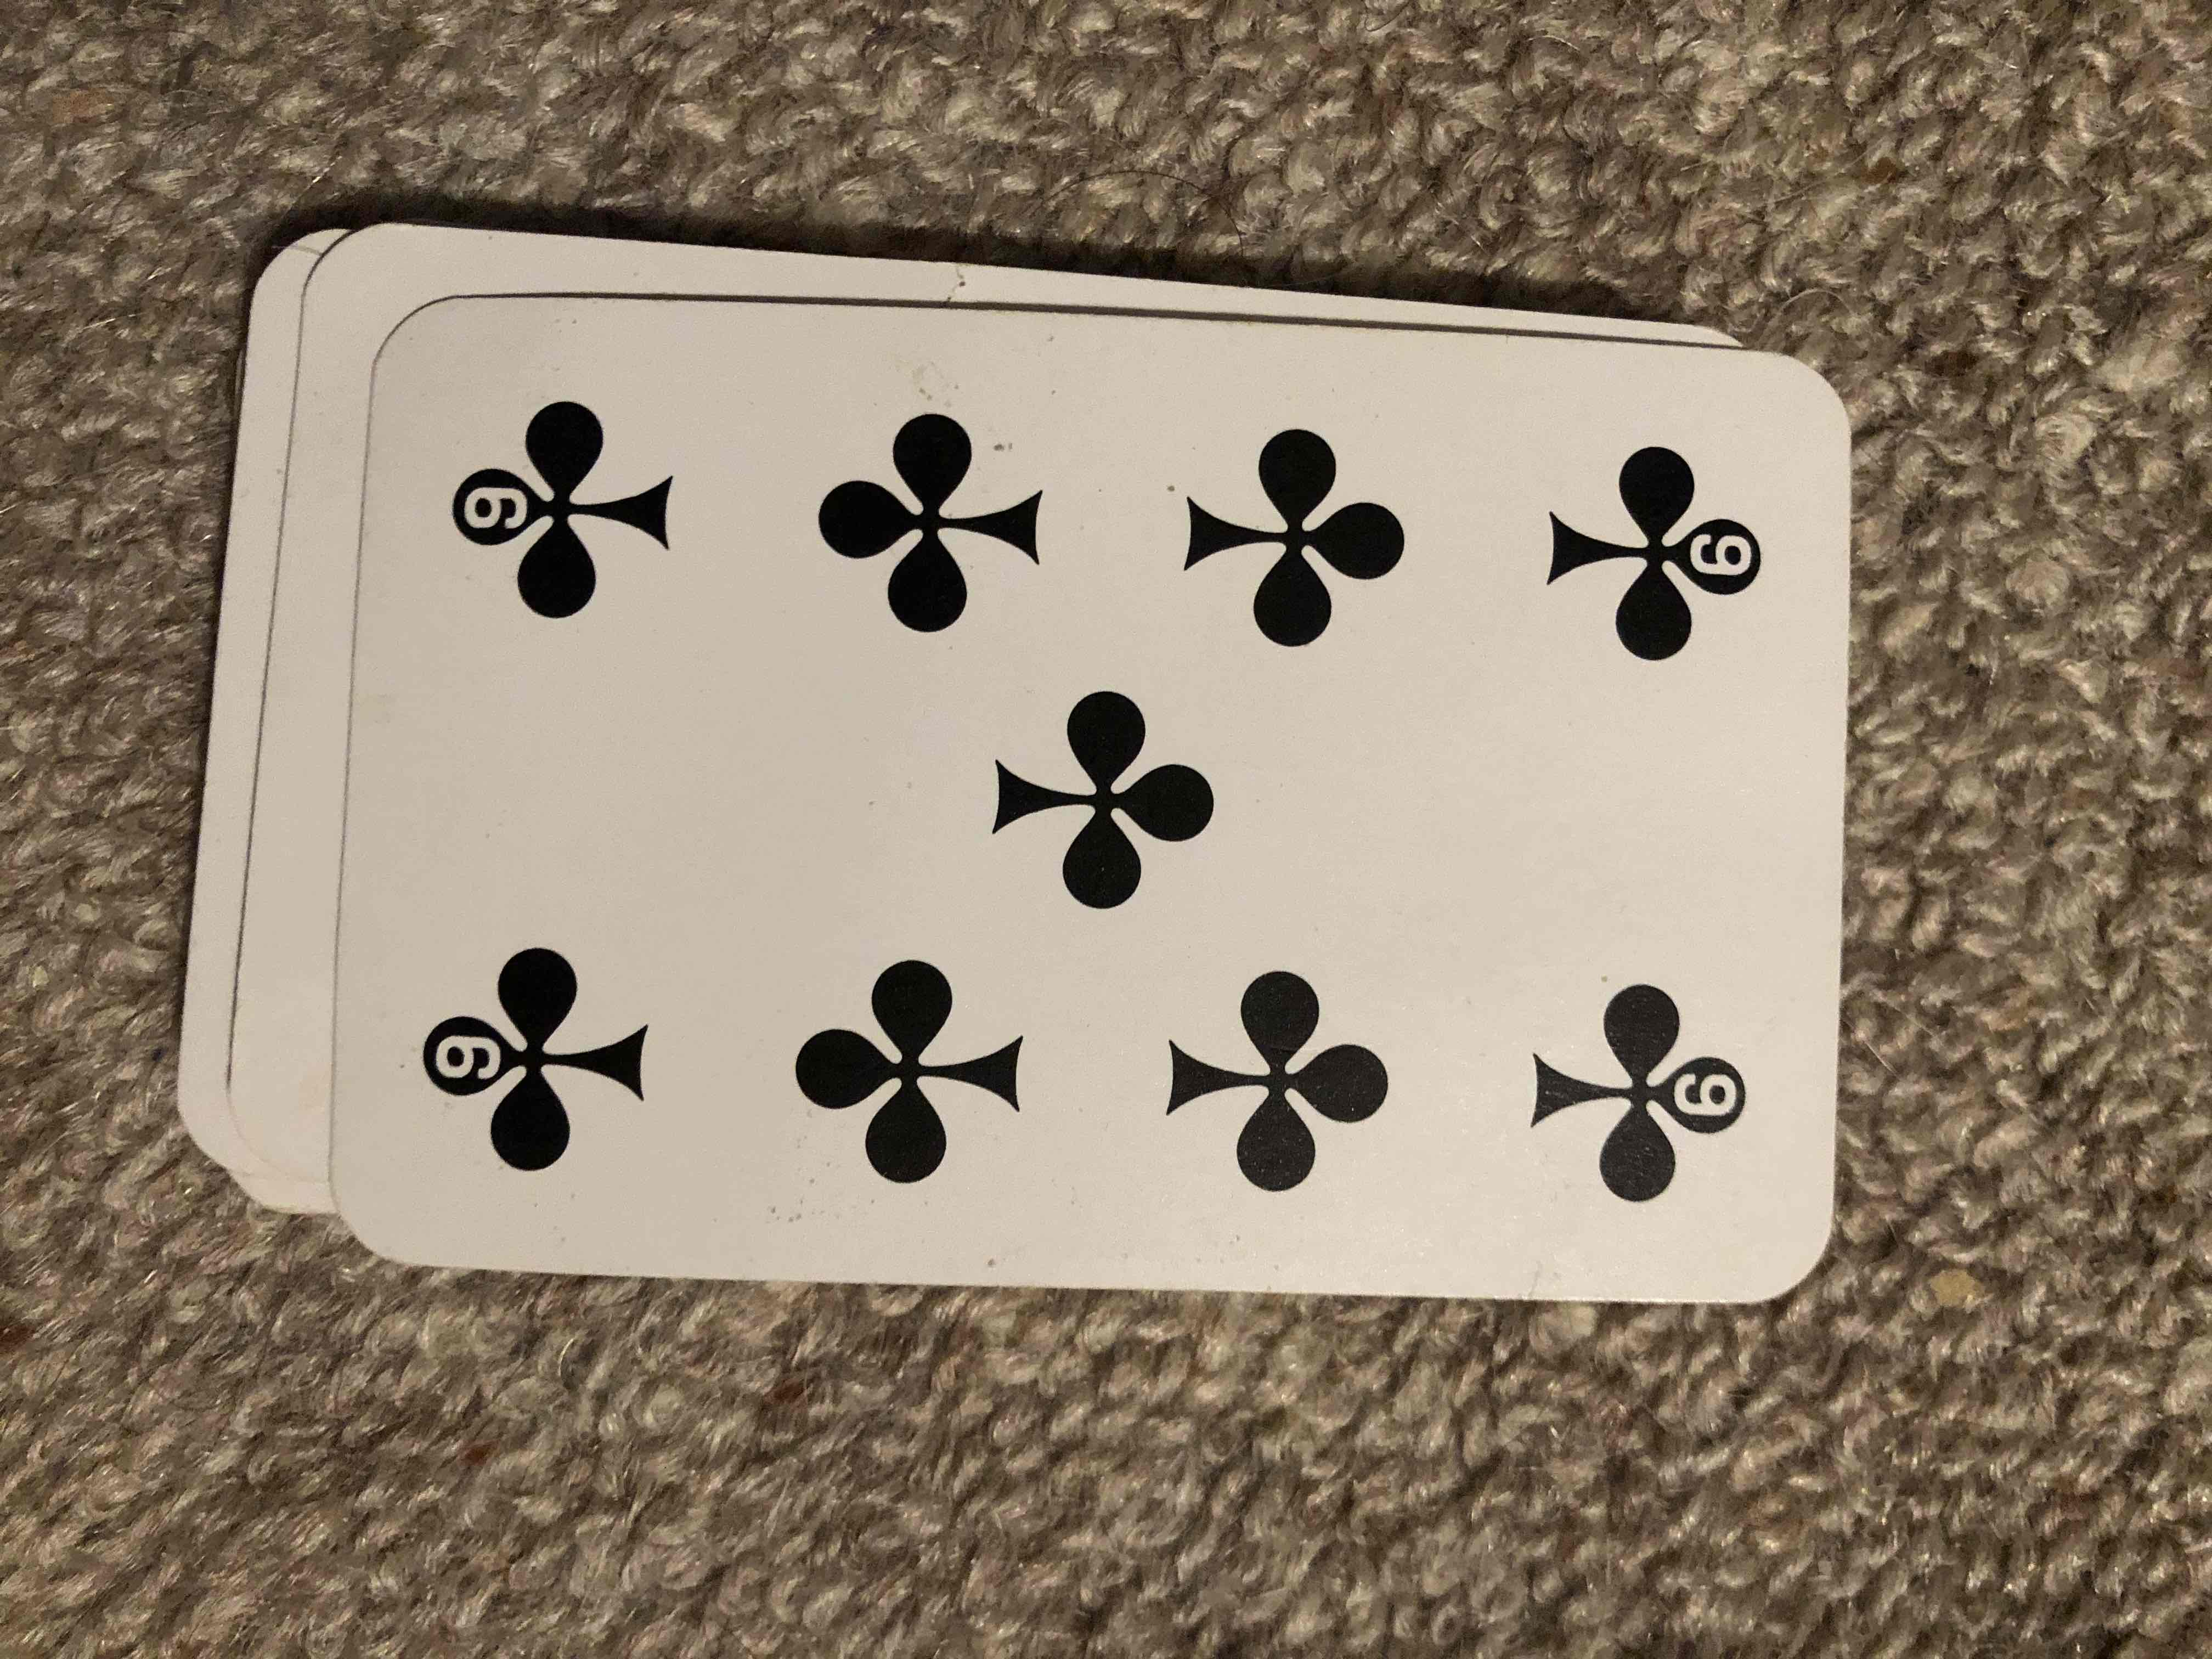clubs9: (362, 279, 1829, 1284)
